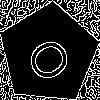O: (23, 28, 82, 86)
